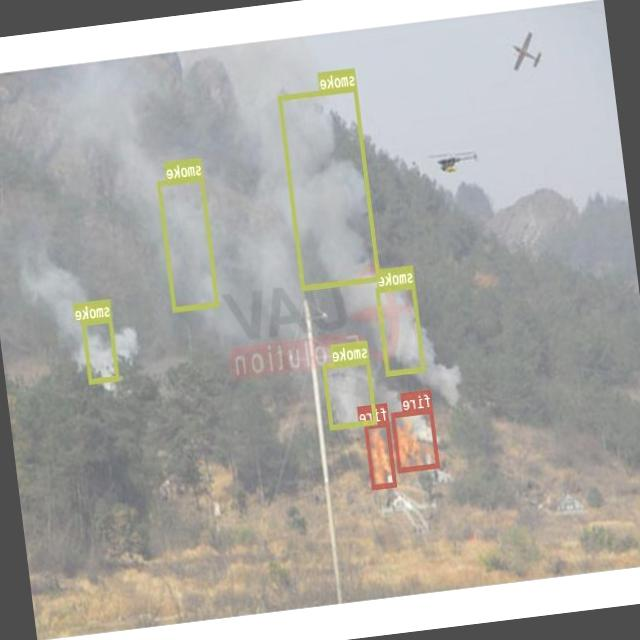fire: (391, 406, 440, 471), (364, 419, 397, 488)
smoke: (278, 85, 381, 289), (156, 175, 220, 312), (376, 282, 426, 375), (322, 357, 378, 429), (82, 316, 120, 382)
